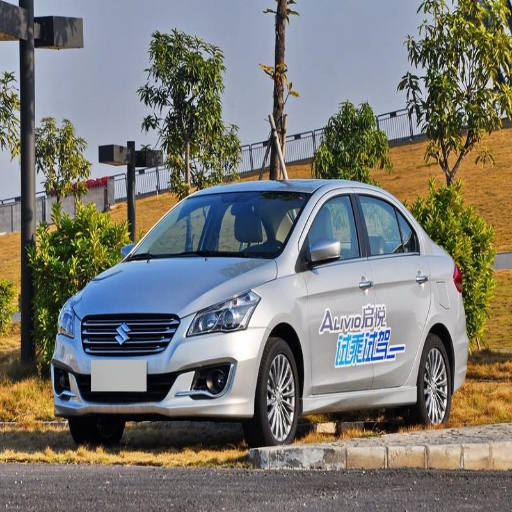back_left_door: (355, 190, 434, 388)
front_bumper: (56, 312, 268, 419)
front_glass: (126, 196, 311, 260)
front_left_door: (302, 190, 375, 394)
